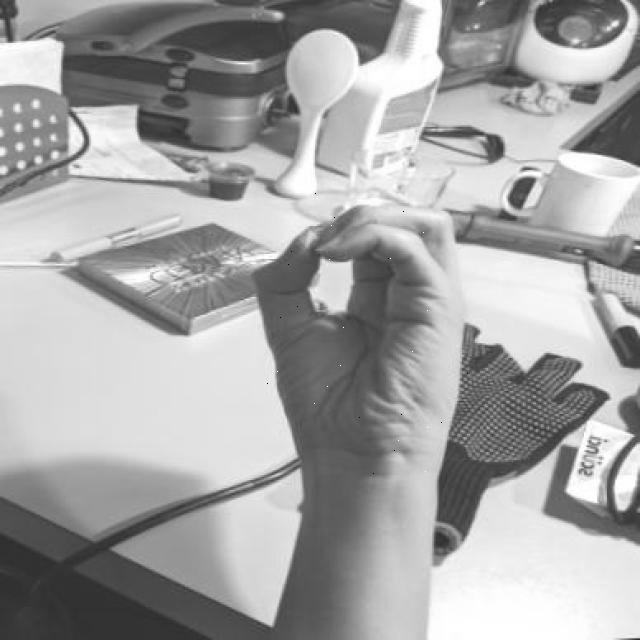O: (238, 193, 486, 485)
